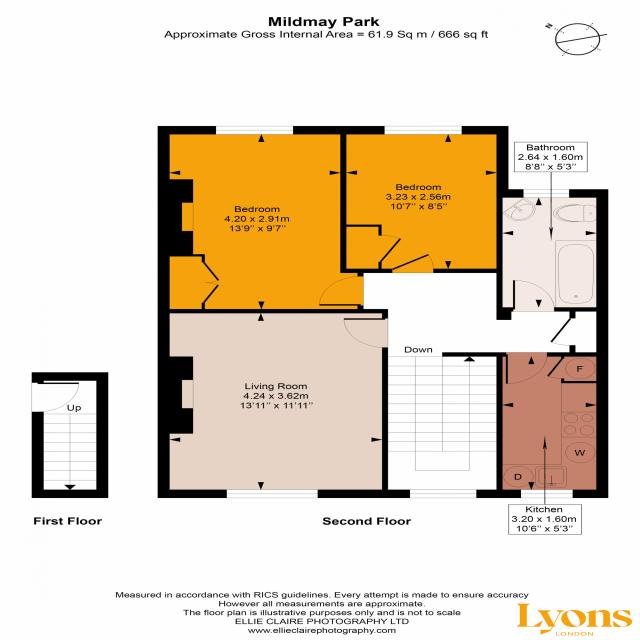DOOR: (340, 317, 390, 349), (504, 352, 550, 385), (318, 275, 365, 307), (512, 278, 556, 312), (390, 252, 436, 274), (377, 234, 403, 263)
ROOM: (156, 309, 389, 498), (157, 126, 364, 314), (340, 126, 509, 273), (496, 352, 609, 498)
WINDOW: (225, 489, 319, 499), (215, 125, 295, 136), (383, 125, 463, 135), (408, 489, 478, 499), (519, 488, 575, 499), (522, 188, 571, 199)
